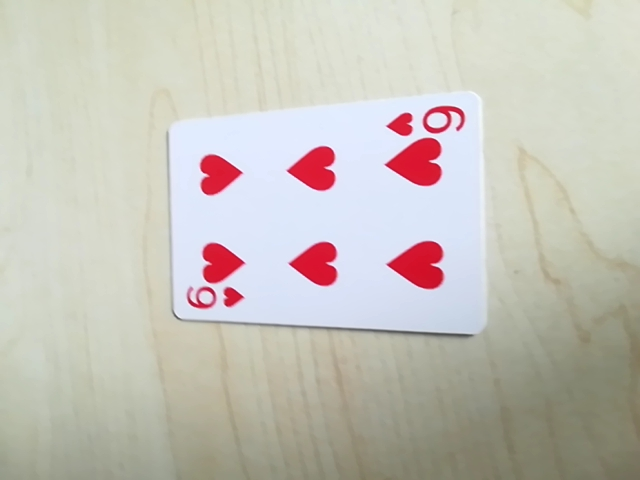hx 6: (385, 99, 467, 140), (182, 285, 246, 319)
